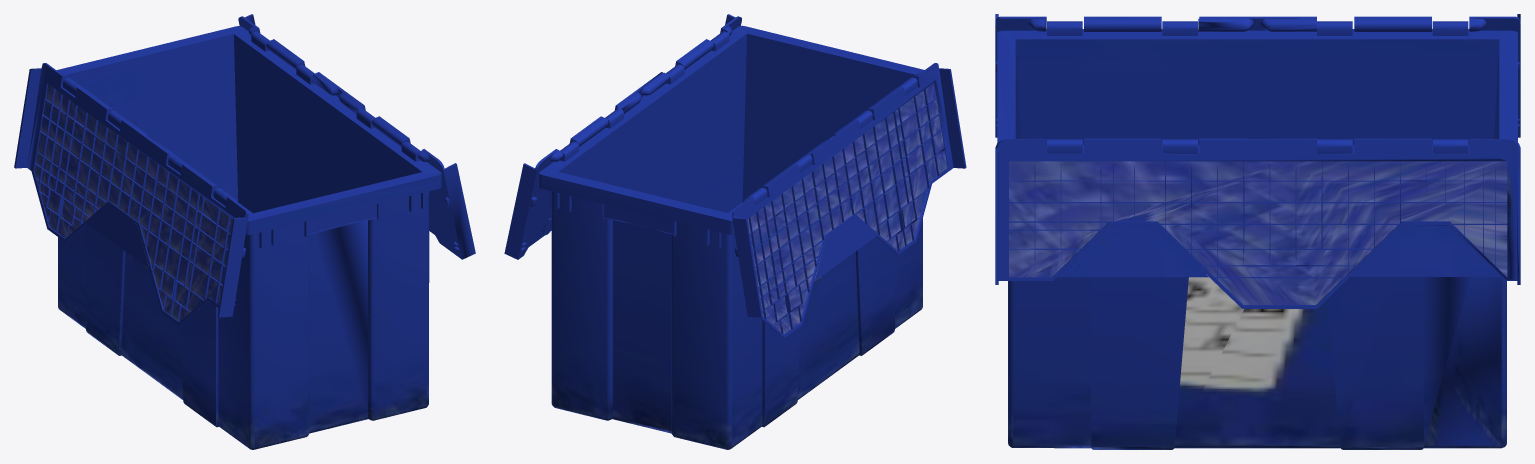
Rendered from industrial-pastic-container.glb.
The picture shows the model from 3 angles, left to right: view 1: azimuth 30°, elevation 25°; view 2: azimuth 150°, elevation 25°; view 3: azimuth 270°, elevation 25°; orthographic projection. The views are drawn at different scales.
Parts seen in each view (by area): view 1: industrial_pastic_container; view 2: industrial_pastic_container; view 3: industrial_pastic_container.
Part boxes in pixels (<box>): industrial_pastic_container: <box>14,14,475,449</box>; industrial_pastic_container: <box>504,14,966,449</box>; industrial_pastic_container: <box>995,14,1520,449</box>.
Bounding box in the file's own units: 0.4572 × 0.4189 × 0.6315.
1 material, 1 textured.
